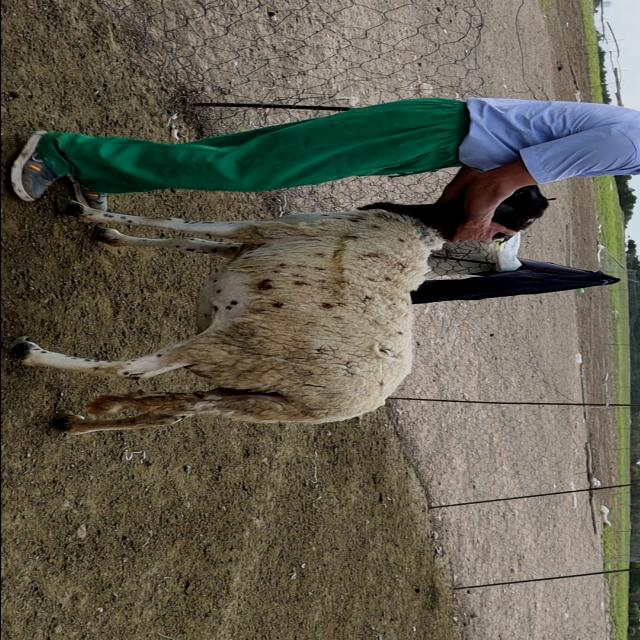Score_5: (11, 197, 462, 435)
